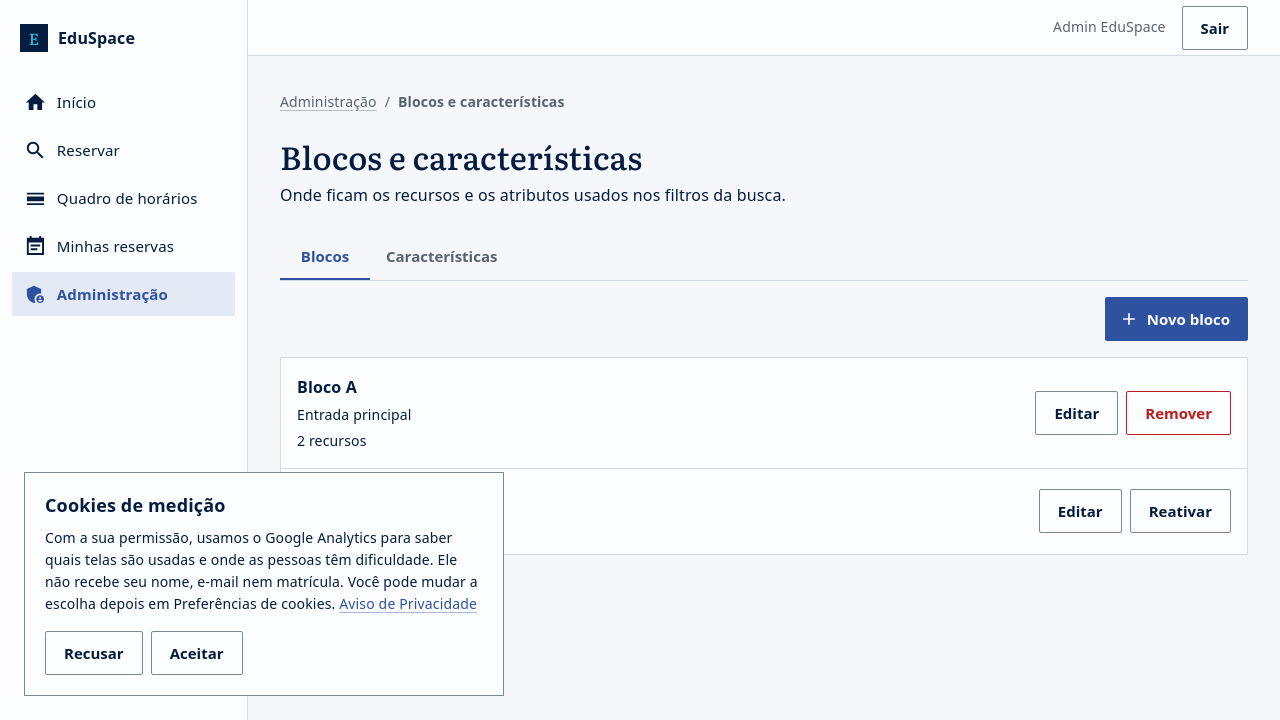
Test: admin buildings and features › lists buildings with resource counts and creates one
Expected: the text "2 recursos" is shown, [297,430,367,452]
Expected: the text "Desativado" is shown, [394,515,474,538]
Click the button "Novo bloco" at (1176, 319), box [1105,297,1248,341]
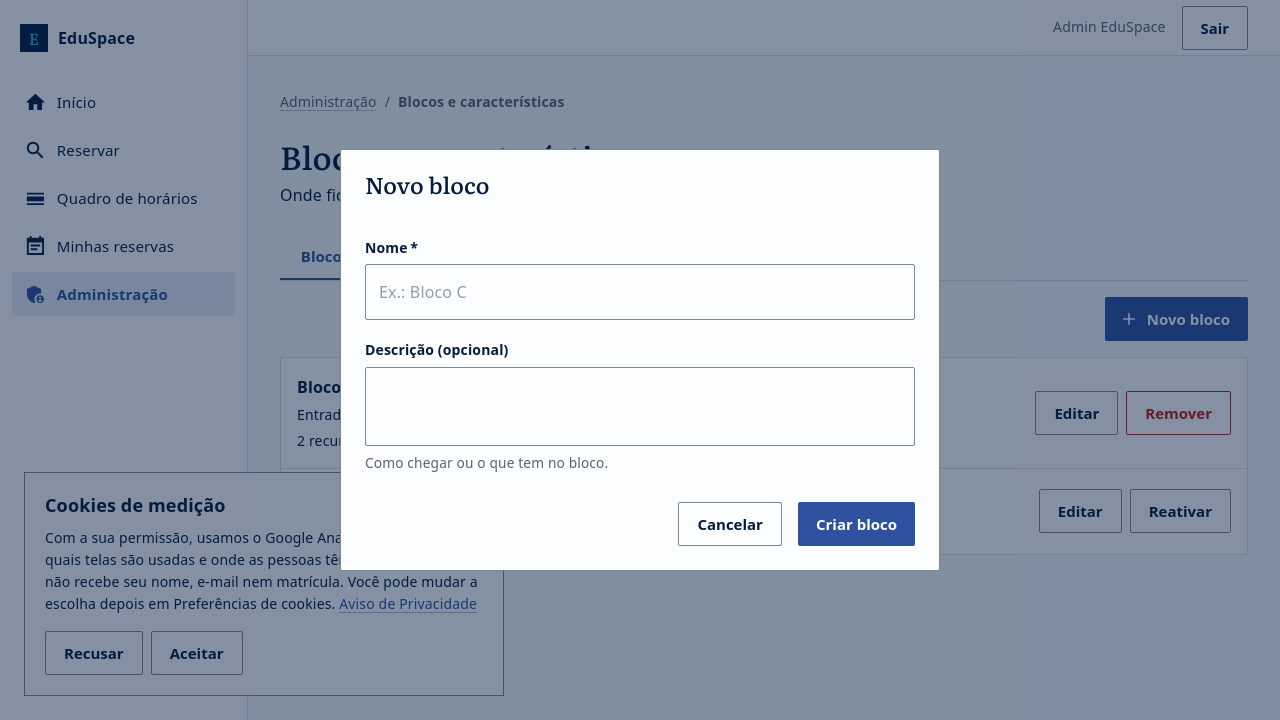
Type "Bloco C" into the field labelled "Nome *" at (640, 292), box [365,264,915,320]
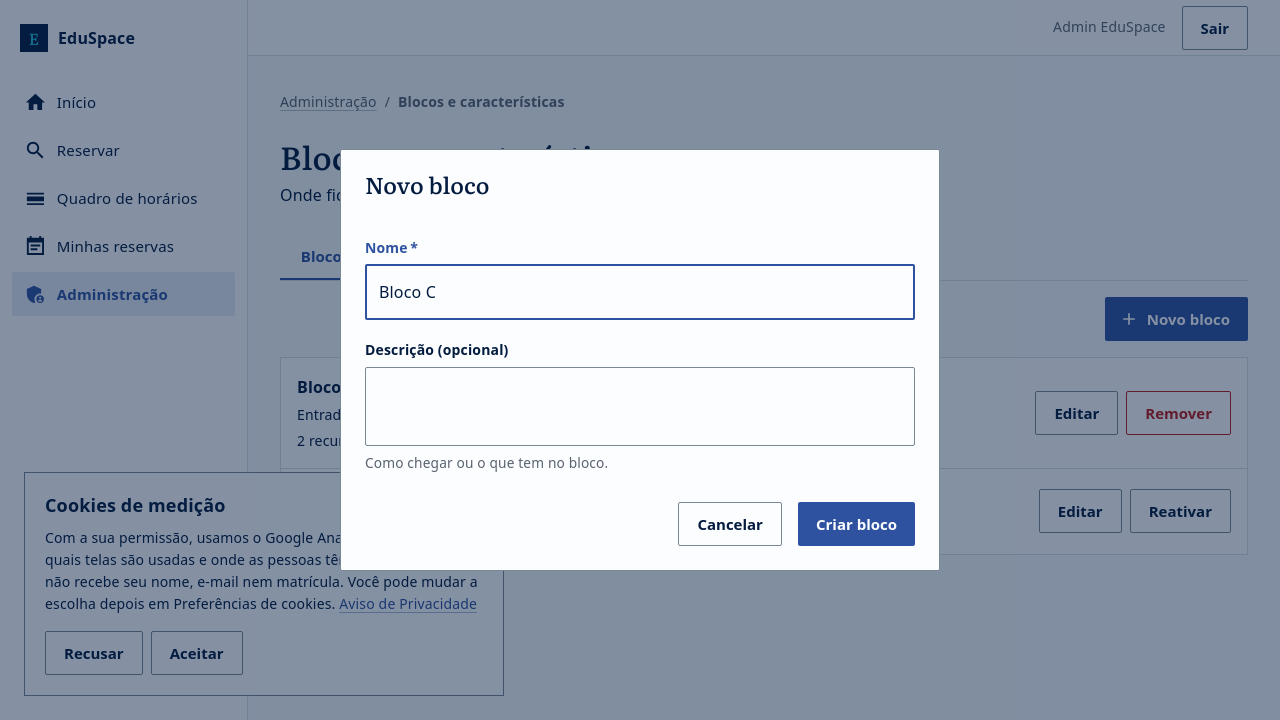
Click the button "Criar bloco" at (856, 524), box [798,502,915,546]
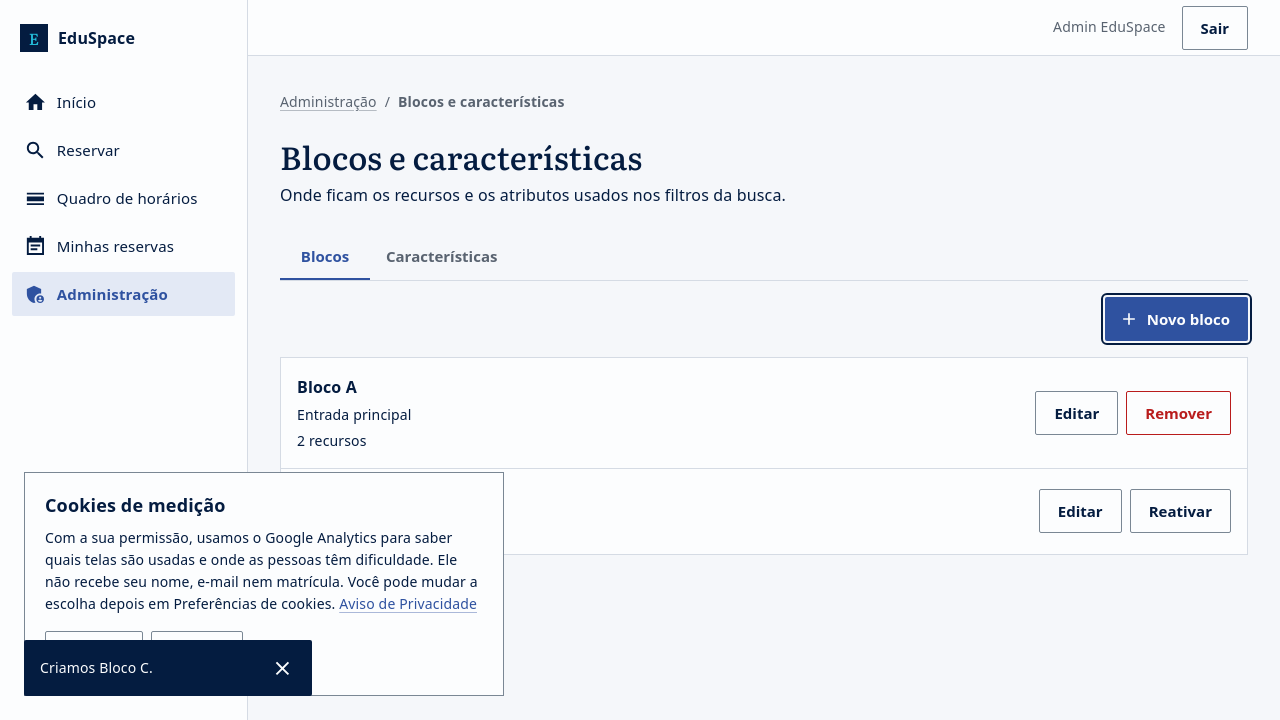
Result: the message reads "Criamos Bloco C." at [40,658,153,677]
